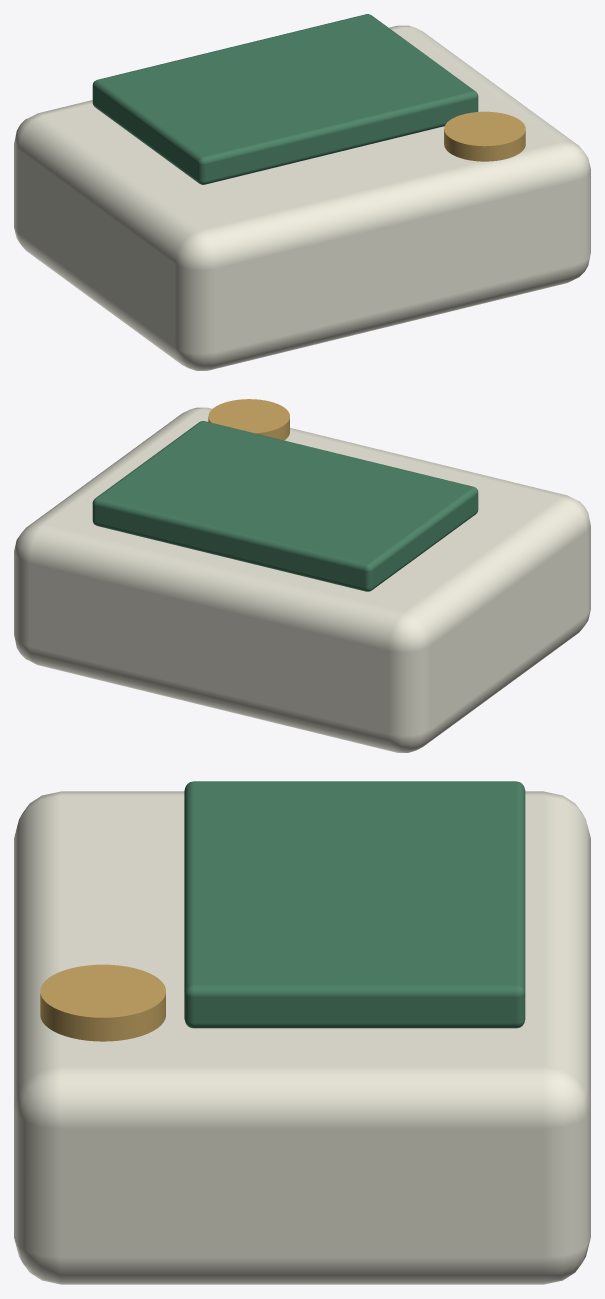
Rendered from clockmaker-and-watch-repair-demagnetizer-8ff00def__30617.glb.
3 views of the same model, one above another, from view 1: azimuth 30°, elevation 25°; view 2: azimuth 150°, elevation 25°; view 3: azimuth 270°, elevation 25° (orthographic). The views are drawn at different scales.
Parts seen in each view (by area): view 1: demagnetizer; view 2: demagnetizer; view 3: demagnetizer.
Part boxes in pixels (bbox=[...]): demagnetizer: bbox=[14, 14, 590, 370]; demagnetizer: bbox=[14, 399, 590, 752]; demagnetizer: bbox=[14, 781, 590, 1284].
Size of the model in its own units: 0.14 by 0.055 by 0.11.
